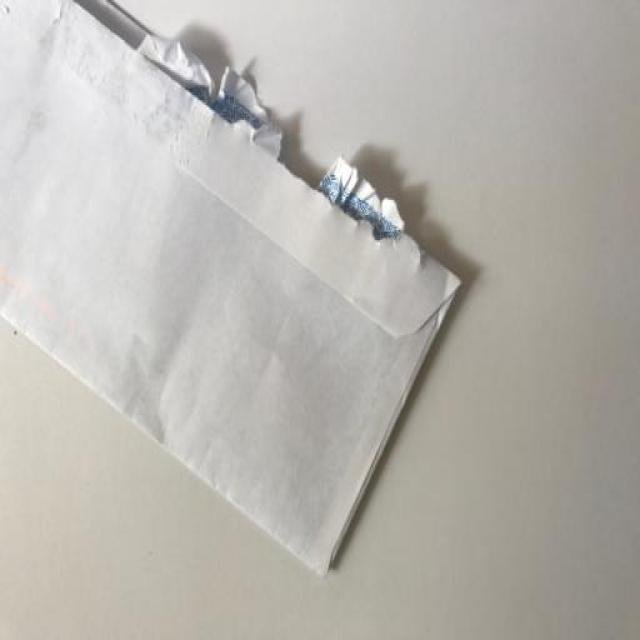paper: (1, 1, 482, 593)
